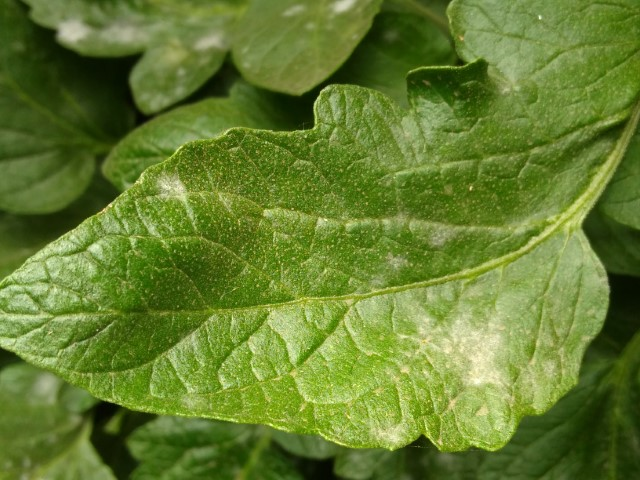oidio: (442, 308, 514, 395), (158, 172, 199, 214), (376, 421, 416, 448), (423, 219, 453, 247)
